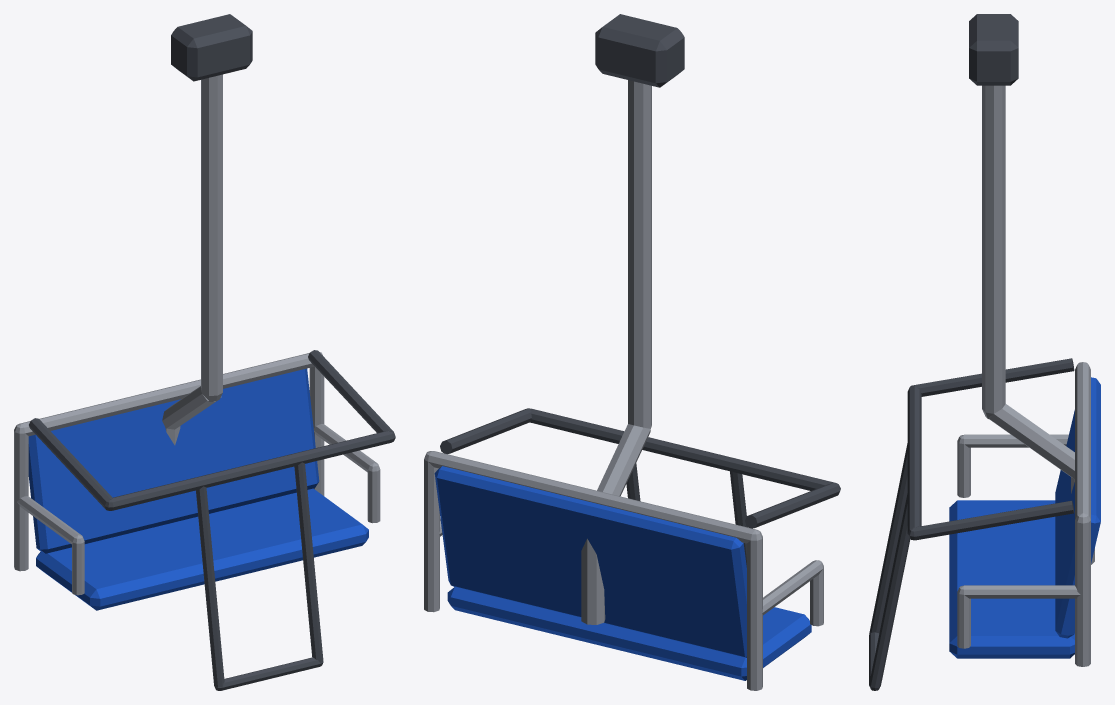
File: lift_chair.glb
The picture shows the model from 3 angles, left to right: view 1: azimuth 30°, elevation 25°; view 2: azimuth 150°, elevation 25°; view 3: azimuth 270°, elevation 25°; orthographic projection. The views are drawn at different scales.
Visible parts, largest first — view 1: lift_chair_Chair, lift_chair_SafetyBar; view 2: lift_chair_Chair, lift_chair_SafetyBar; view 3: lift_chair_Chair, lift_chair_SafetyBar.
Part boxes in pixels (left/top/right/bottom): lift_chair_Chair: left=14, top=14, right=380, bottom=610; lift_chair_SafetyBar: left=29, top=350, right=395, bottom=690; lift_chair_Chair: left=424, top=14, right=823, bottom=690; lift_chair_SafetyBar: left=440, top=408, right=840, bottom=567; lift_chair_Chair: left=949, top=14, right=1100, bottom=666; lift_chair_SafetyBar: left=869, top=358, right=1074, bottom=690.
Size of the model in its own units: 3.76 by 7.11 by 2.34.
1 material, 1 textured.
